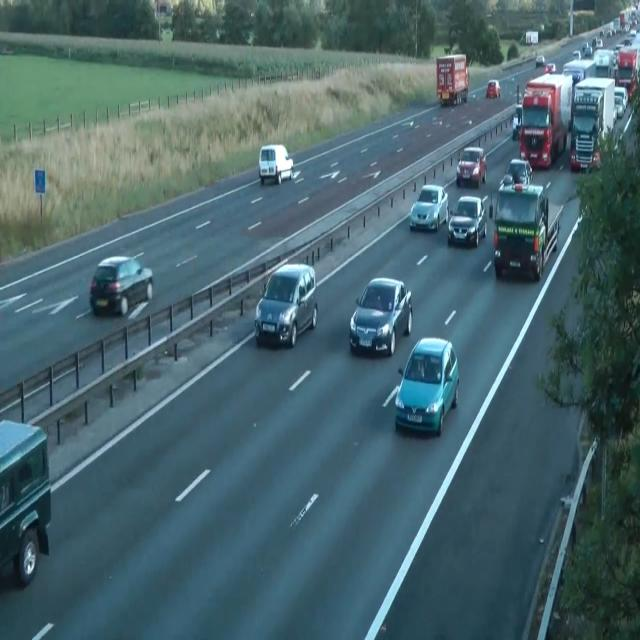bus: (394, 336, 459, 436), (348, 276, 412, 356), (89, 254, 153, 316), (448, 195, 487, 247), (409, 183, 449, 232), (258, 144, 294, 185), (456, 146, 486, 188), (504, 158, 532, 188), (614, 86, 628, 118), (498, 173, 514, 190), (486, 79, 500, 98), (512, 114, 520, 140), (592, 36, 603, 52), (581, 41, 592, 57), (544, 62, 556, 73), (535, 54, 545, 67), (572, 50, 581, 60)
jeep: (254, 262, 318, 348)
minibus: (0, 418, 52, 586), (489, 177, 564, 281), (515, 72, 573, 169), (570, 76, 616, 174), (435, 53, 469, 106), (614, 44, 640, 100), (519, 30, 539, 44)
